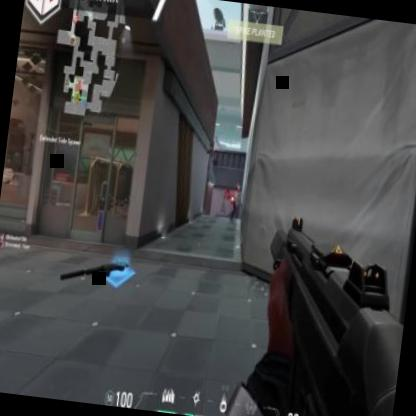enemy: (228, 180, 242, 218)
enemy_head: (236, 184, 240, 192)
